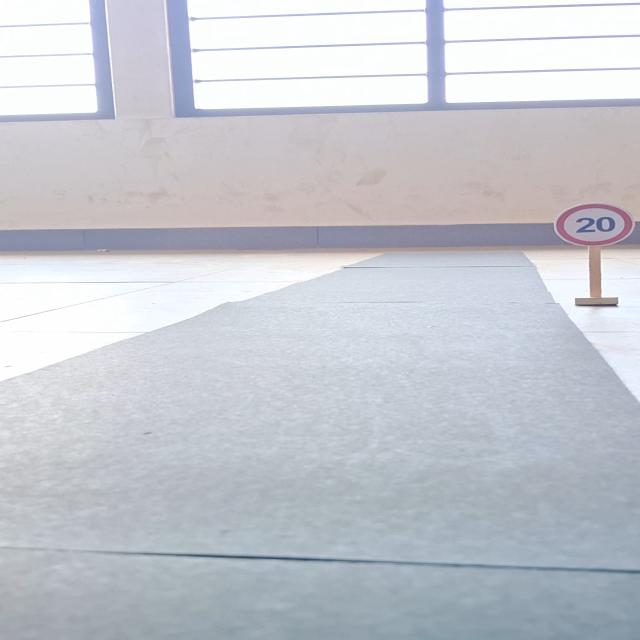Speed20: (549, 199, 636, 248)
